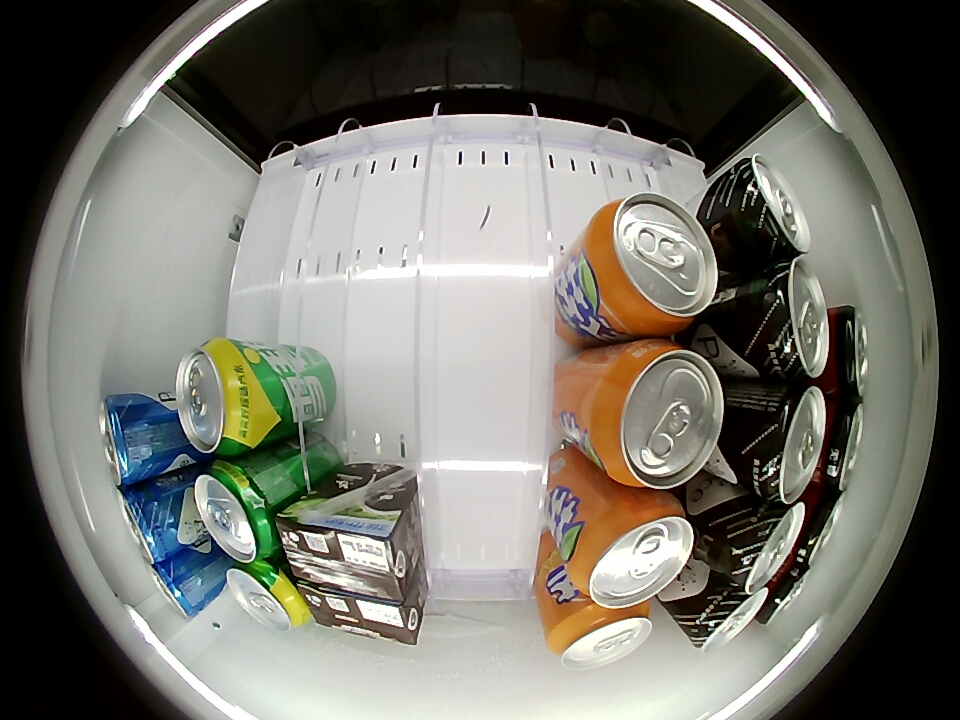fenda: (589, 340, 725, 489), (583, 193, 718, 335), (567, 494, 694, 609), (546, 601, 654, 670)
lingdukele: (816, 396, 864, 492), (791, 487, 846, 568), (823, 306, 868, 399), (759, 562, 810, 626)
qingdaowangzi-1: (730, 383, 827, 504), (741, 259, 829, 382), (720, 156, 811, 262), (716, 497, 804, 593), (684, 577, 768, 652)
qingdaowangzi-2: (99, 393, 167, 486), (115, 481, 189, 564), (145, 553, 218, 619)
weitanai2: (278, 497, 415, 599), (299, 583, 424, 646)
xuebi2: (175, 338, 268, 457), (194, 459, 282, 562), (227, 560, 308, 632)
